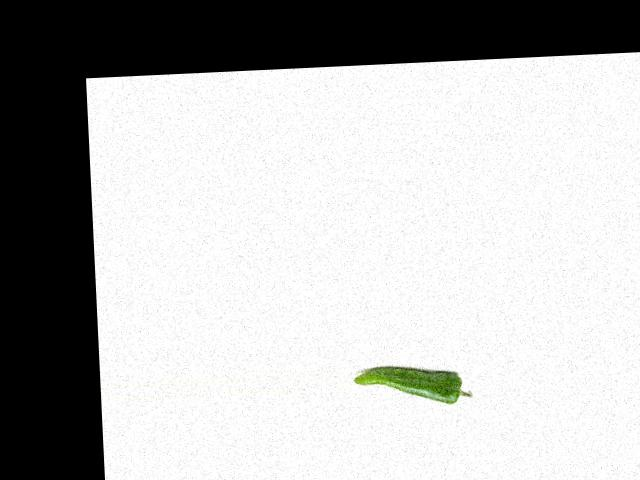bell_pepper: (352, 360, 477, 410)
